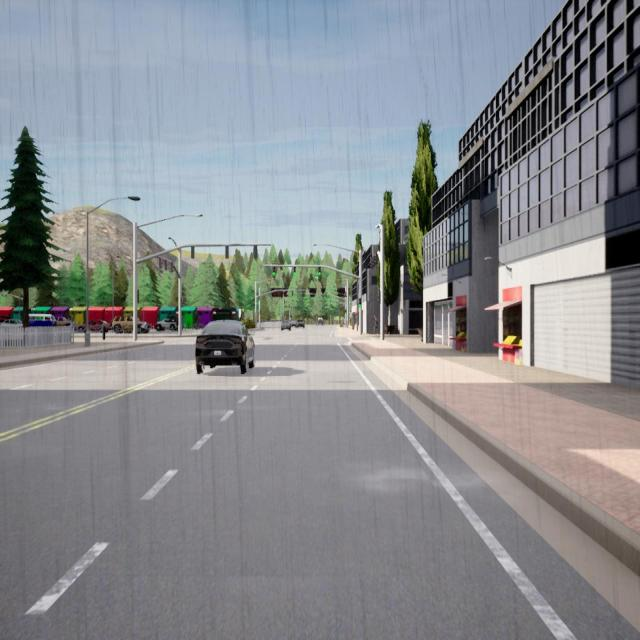Pedestrian: (372, 315, 378, 335)
Vehicle: (195, 320, 254, 374), (112, 314, 150, 334), (83, 319, 111, 333), (28, 314, 56, 326), (156, 316, 178, 331), (1, 319, 22, 326), (58, 317, 70, 327), (281, 320, 291, 331), (317, 317, 324, 327), (296, 320, 304, 328), (291, 320, 296, 327)
traffic_light: (358, 298, 362, 308), (272, 266, 276, 276), (159, 258, 163, 268), (254, 246, 257, 258), (318, 266, 321, 276), (170, 262, 173, 272), (136, 289, 138, 303), (180, 298, 183, 307), (192, 246, 194, 258), (226, 246, 228, 258), (370, 257, 372, 268), (294, 266, 296, 276), (165, 260, 167, 270), (375, 256, 377, 266), (373, 256, 374, 268), (325, 294, 327, 299), (344, 310, 346, 314)
